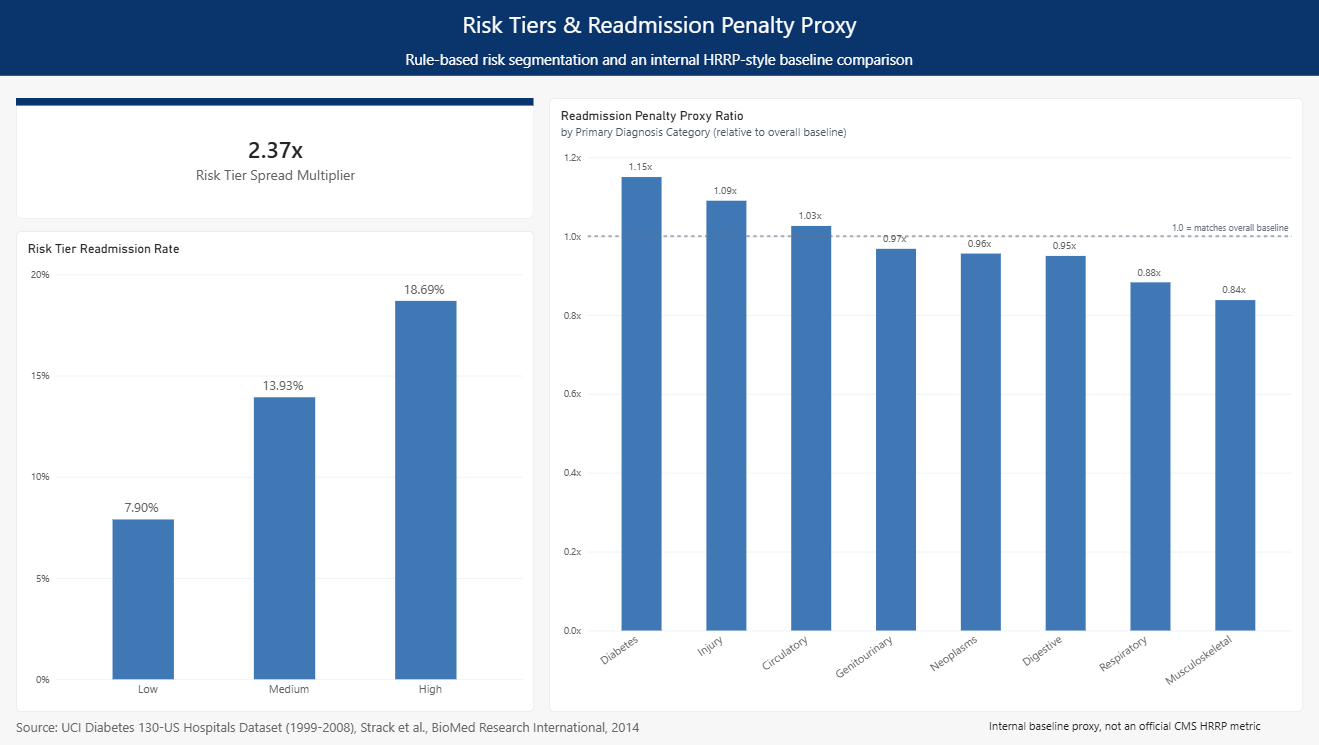

What the dashboard file says about the page in this screenshot:
{"tool":"powerbi","page":{"name":"Risk & Penalty","canvas":[1920,1080],"ordinal":2},"visuals":[{"type":"shape","box":[0,0,1920,69.2],"z":0},{"type":"shape","box":[0,62.1,1919.3,49.3],"z":1000},{"type":"textbox","box":[27,1041.7,1103.4,38.6],"z":2000},{"type":"clusteredColumnChart","title":"Risk Tier Readmission Rate","fields":{"Category":["hospital_readmission vw_encounter_risk_tier.risk_tier"],"Y":["hospital_readmission vw_encounter_risk_tier.Risk Tier Readmission Rate"]},"box":[27.9,336.1,750.8,696.7],"z":3000},{"type":"clusteredColumnChart","title":"Readmission Penalty Proxy Ratio","fields":{"Category":["hospital_readmission vw_diagnosis_category_penalty_proxy.primary_diagnosis_category"],"Y":["Sum(hospital_readmission vw_diagnosis_category_penalty_proxy.penalty_risk_proxy_ratio)"]},"box":[799.4,143.6,1093.3,889.8],"z":4000},{"type":"textbox","box":[1437.8,1041.4,481.5,27.9],"z":5000},{"type":"cardVisual","fields":{"Data":["hospital_readmission vw_encounter_risk_tier.Risk Tier Spread Multiplier"]},"box":[27.9,144.2,750.8,175.4],"z":5001,"group":"g1"},{"type":"shape","box":[28,143.6,750,11.2],"z":11000,"group":"g1"},{"type":"group","id":"g1","title":"Group 1","box":[27.9,143.6,750.8,176],"z":11001}]}

Visuals, with their boxes in screenshot pixels (x1, y1, x2, y2), scaled from the page's 1920x1080 canvas onto the 1319x745 screenshot:
shape: l=0, t=0, r=1318, b=48
shape: l=0, t=43, r=1318, b=77
textbox: l=19, t=719, r=777, b=744
"Risk Tier Readmission Rate" clusteredColumnChart: l=19, t=232, r=535, b=712
"Readmission Penalty Proxy Ratio" clusteredColumnChart: l=549, t=99, r=1300, b=713
textbox: l=988, t=718, r=1318, b=738
cardVisual - hospital_readmission vw_encounter_risk_tier.Risk Tier Spread Multiplier: l=19, t=99, r=535, b=220
shape: l=19, t=99, r=534, b=107
"Group 1" group: l=19, t=99, r=535, b=220
